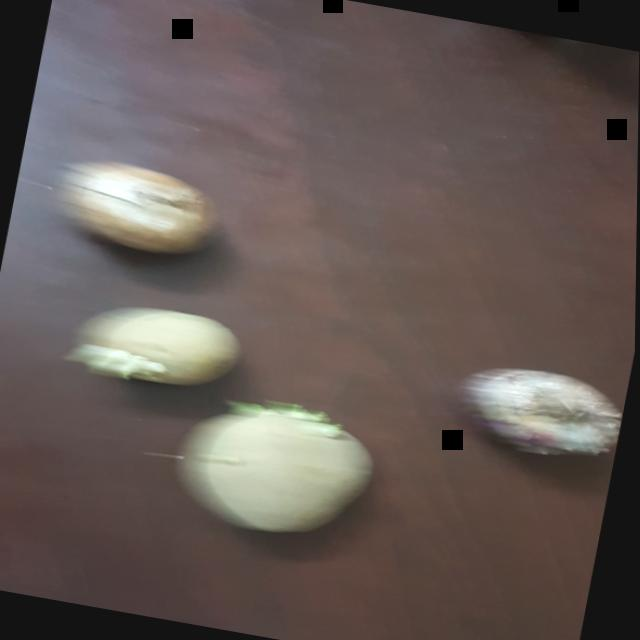onion: (443, 339, 633, 484), (48, 148, 235, 280)
potato: (160, 378, 390, 556), (65, 281, 253, 411)
